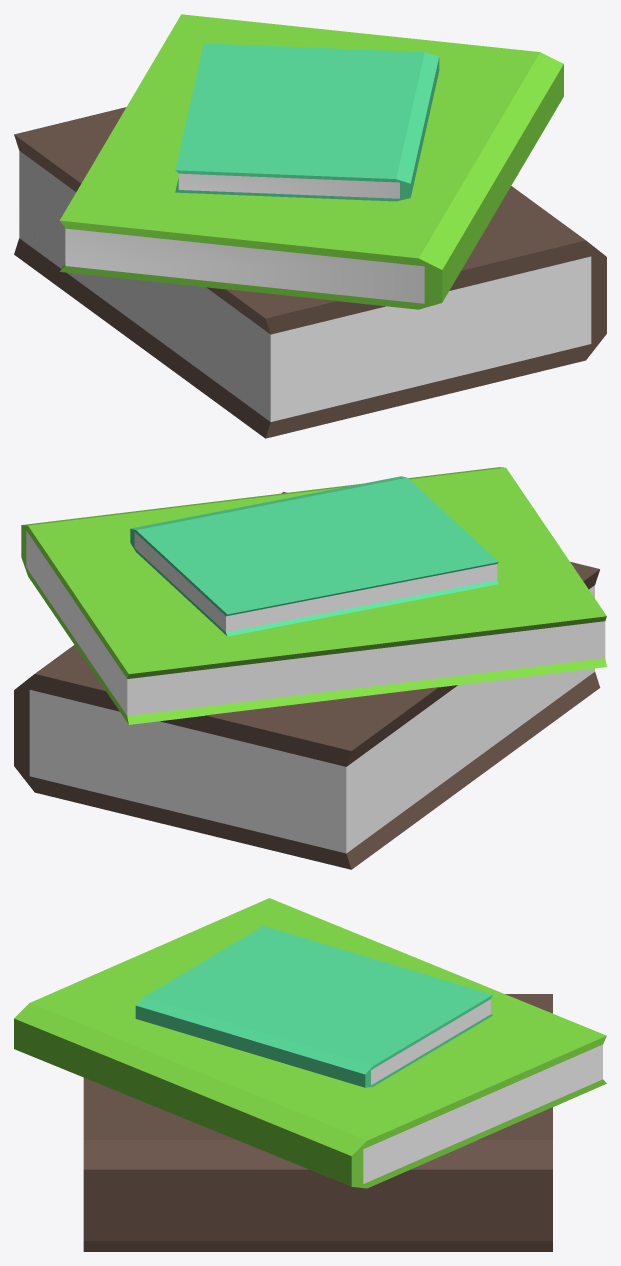
The model's file is ksiazka-ustawienie3.fbx.
The picture shows the model from 3 angles, top to bottom: view 1: azimuth 30°, elevation 25°; view 2: azimuth 150°, elevation 25°; view 3: azimuth 270°, elevation 25°; orthographic projection. The views are drawn at different scales.
Visible parts, largest first — view 1: Cube; view 2: Cube; view 3: Cube.
Part boxes in pixels (bbox=[...]): Cube: bbox=[14, 14, 606, 438]; Cube: bbox=[14, 467, 606, 869]; Cube: bbox=[14, 898, 606, 1251].
Bounding box in the file's own units: 451 × 154 × 453.
